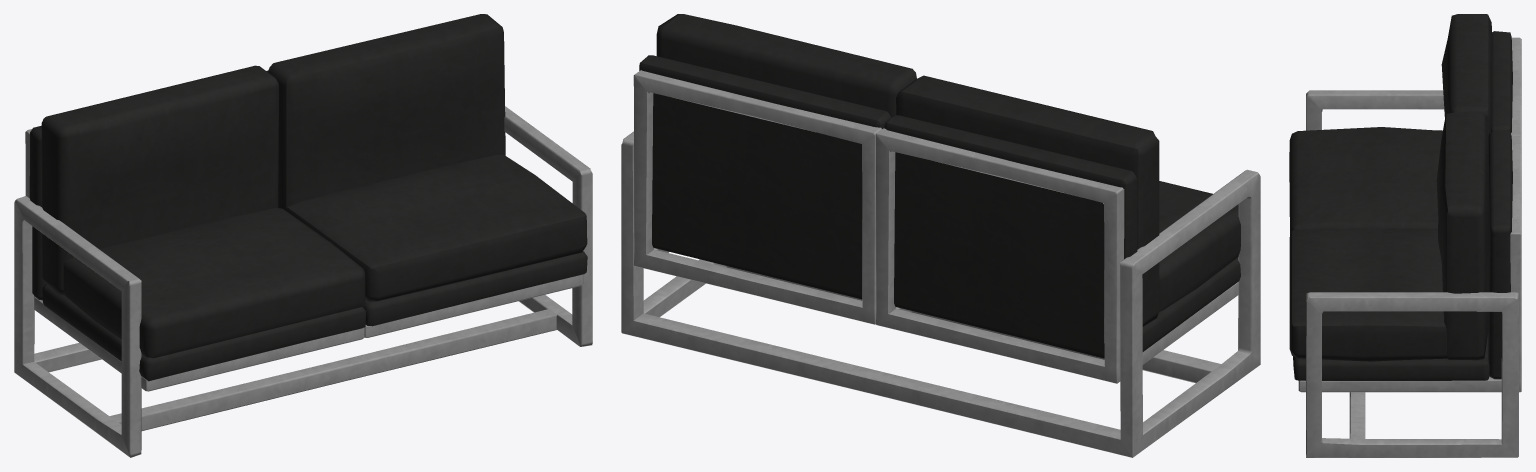
The model's file is SM_Rect_Sofa1.glb.
The picture shows the model from 3 angles, left to right: view 1: azimuth 30°, elevation 25°; view 2: azimuth 150°, elevation 25°; view 3: azimuth 270°, elevation 25°; orthographic projection. The views are drawn at different scales.
Parts seen in each view (by area): view 1: SM_Rect_Sofa1; view 2: SM_Rect_Sofa1; view 3: SM_Rect_Sofa1.
Boxes of the visible parts, x1,y1,x2,y2 form: SM_Rect_Sofa1: (14, 14, 592, 457); SM_Rect_Sofa1: (621, 14, 1260, 457); SM_Rect_Sofa1: (1289, 14, 1521, 457).
Bounding box in the file's own units: 1.9 × 1.05 × 0.901.
2 materials, 2 textured.
